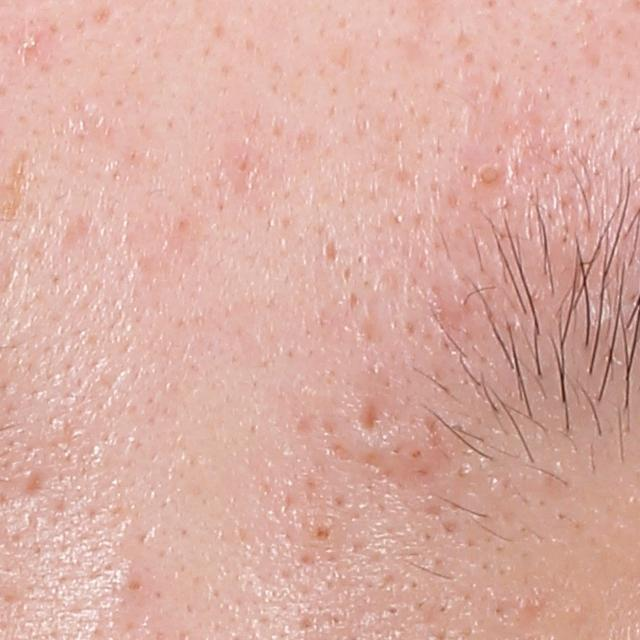atrophic_scar: (357, 395, 381, 435), (24, 465, 47, 496), (323, 237, 340, 262)
comedo: (308, 521, 336, 546), (478, 164, 504, 187), (124, 573, 146, 597), (381, 600, 405, 621)
